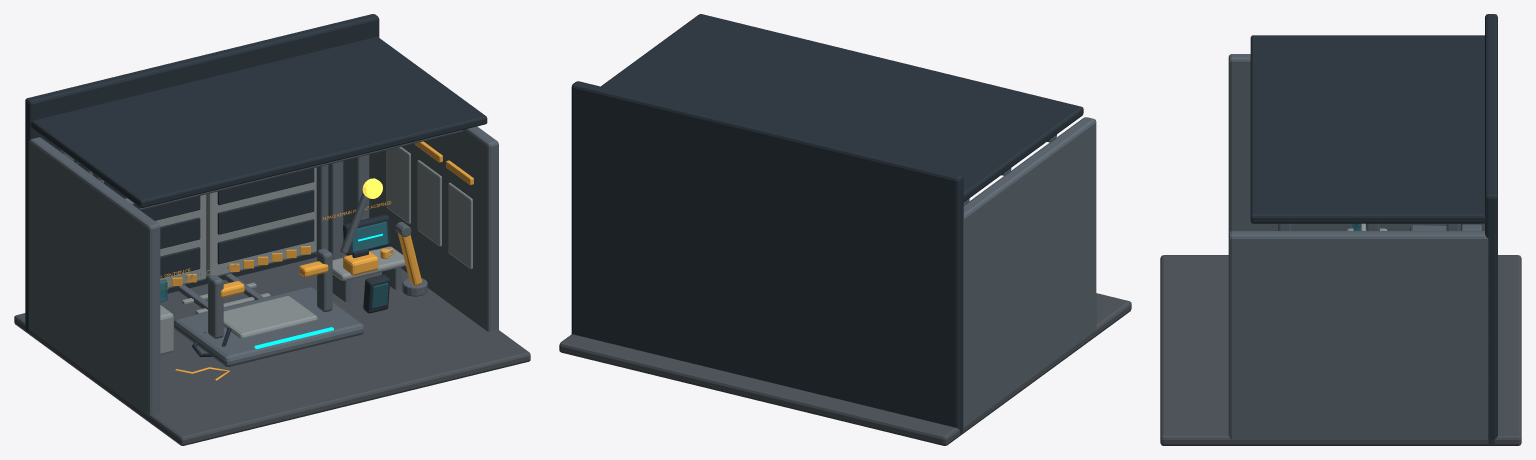
Rendered from cosmoforge_hangar3.glb.
The picture shows the model from 3 angles, left to right: view 1: azimuth 30°, elevation 25°; view 2: azimuth 150°, elevation 25°; view 3: azimuth 270°, elevation 25°; orthographic projection. The views are drawn at different scales.
Visible parts, largest first — view 1: Hangar_Ceiling, Hangar_Floor, Hangar_SideWall_L, Hangar_SideWall_R, Hangar_BackWall, Dock_Base, HangarDoor_Right, LaunchRail_Carriage, HangarDoor_R_Segment_02, HangarDoor_R_Segment_01, WallPanel_R_01, WallPanel_R_02 (+20 smaller); view 2: Hangar_BackWall, Hangar_Ceiling, Hangar_SideWall_L, Hangar_Floor; view 3: Hangar_SideWall_R, Hangar_Ceiling, Hangar_Floor, Hangar_SideWall_L, Hangar_BackWall.
Boxes of the visible parts, left/top/right/bottom form: Hangar_Ceiling: left=31, top=37, right=487, bottom=207; Hangar_Floor: left=14, top=249, right=530, bottom=445; Hangar_SideWall_L: left=28, top=137, right=160, bottom=416; Hangar_SideWall_R: left=369, top=126, right=498, bottom=331; Hangar_BackWall: left=25, top=14, right=379, bottom=332; Dock_Base: left=174, top=287, right=364, bottom=366; HangarDoor_Right: left=206, top=167, right=316, bottom=276; LaunchRail_Carriage: left=223, top=296, right=317, bottom=338; HangarDoor_R_Segment_02: left=217, top=189, right=314, bottom=234; HangarDoor_R_Segment_01: left=217, top=219, right=314, bottom=264; WallPanel_R_01: left=448, top=182, right=472, bottom=269; WallPanel_R_02: left=417, top=160, right=441, bottom=246; Hangar_BackWall: left=571, top=81, right=963, bottom=433; Hangar_Ceiling: left=601, top=14, right=1083, bottom=202; Hangar_SideWall_L: left=963, top=117, right=1096, bottom=427; Hangar_Floor: left=559, top=293, right=1131, bottom=445; Hangar_SideWall_R: left=1228, top=231, right=1488, bottom=439; Hangar_Ceiling: left=1250, top=35, right=1485, bottom=223; Hangar_Floor: left=1160, top=255, right=1521, bottom=445; Hangar_SideWall_L: left=1228, top=54, right=1460, bottom=233; Hangar_BackWall: left=1485, top=14, right=1497, bottom=443.
Bounding box in the file's own units: 10.8 × 6.91 × 9.
